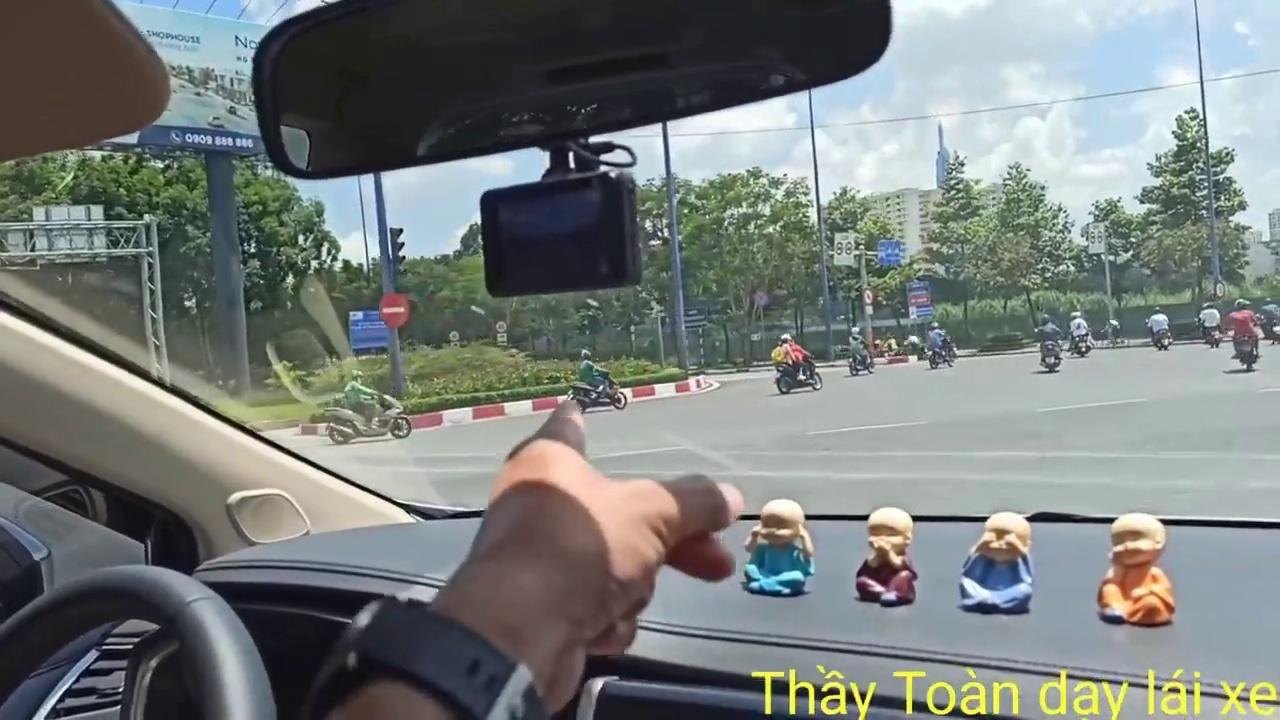Cấm cac phương tiện hoạt động trong khung giờ cố định: (834, 231, 856, 266)
Cấm đi ngược chiều: (377, 290, 412, 330)
Khác: (348, 308, 394, 349), (904, 278, 936, 323)
Làn đường cho từng xe: (877, 239, 901, 265)
